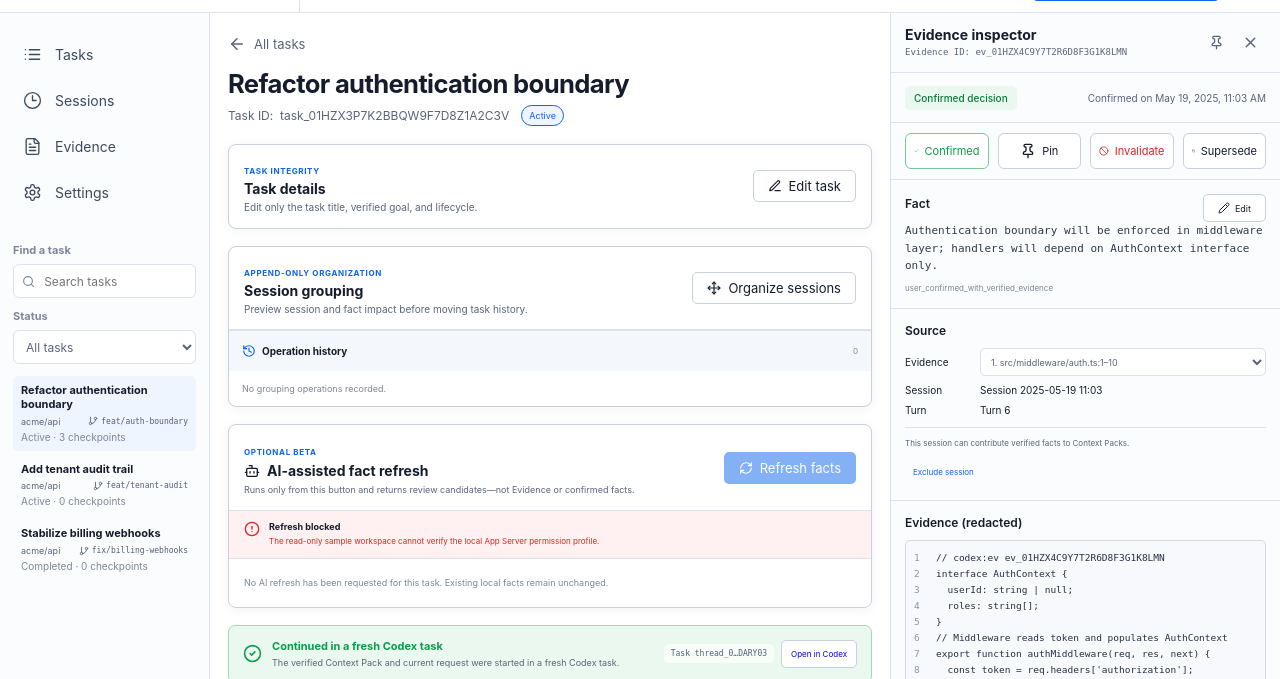
Test: PreviouslyOn review workspace › switches the interface to Korean and stores the browser preference
Click the button "Settings". click: {"x": 104, "y": 192}
box: [10,171,199,213]
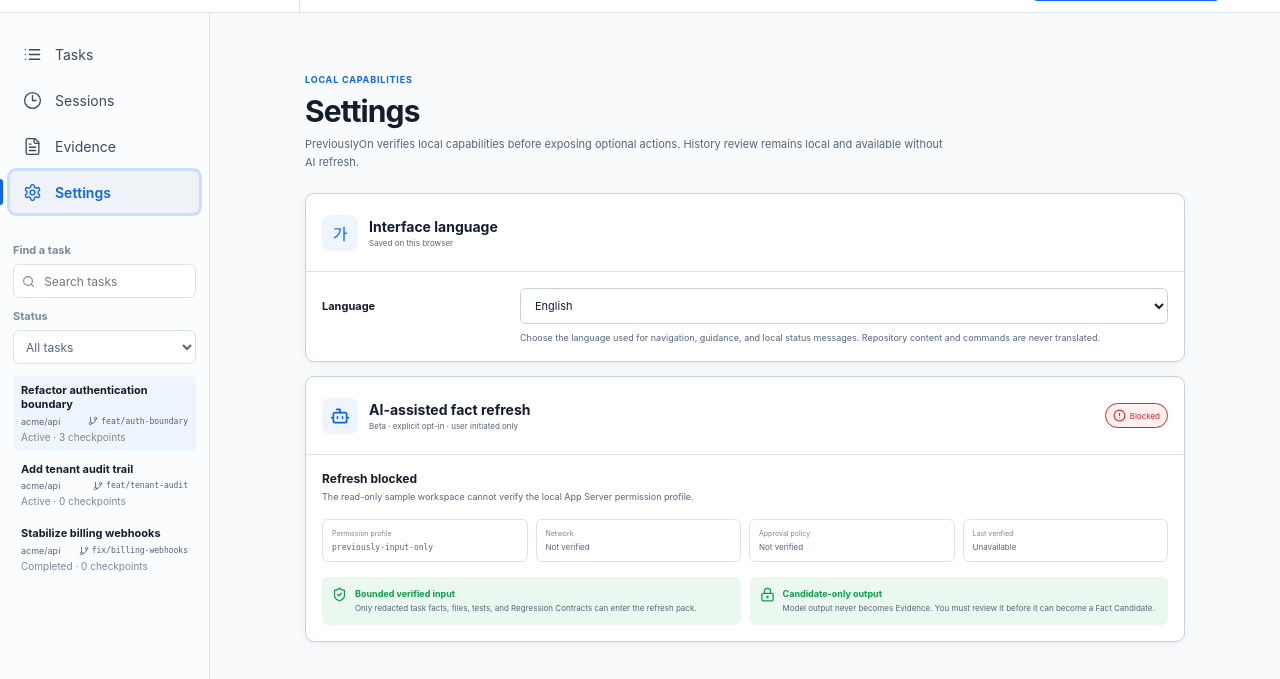
Select "한국어" in the dropdown labelled "Language". click: {"x": 844, "y": 306}
box: [520,288,1168,324]
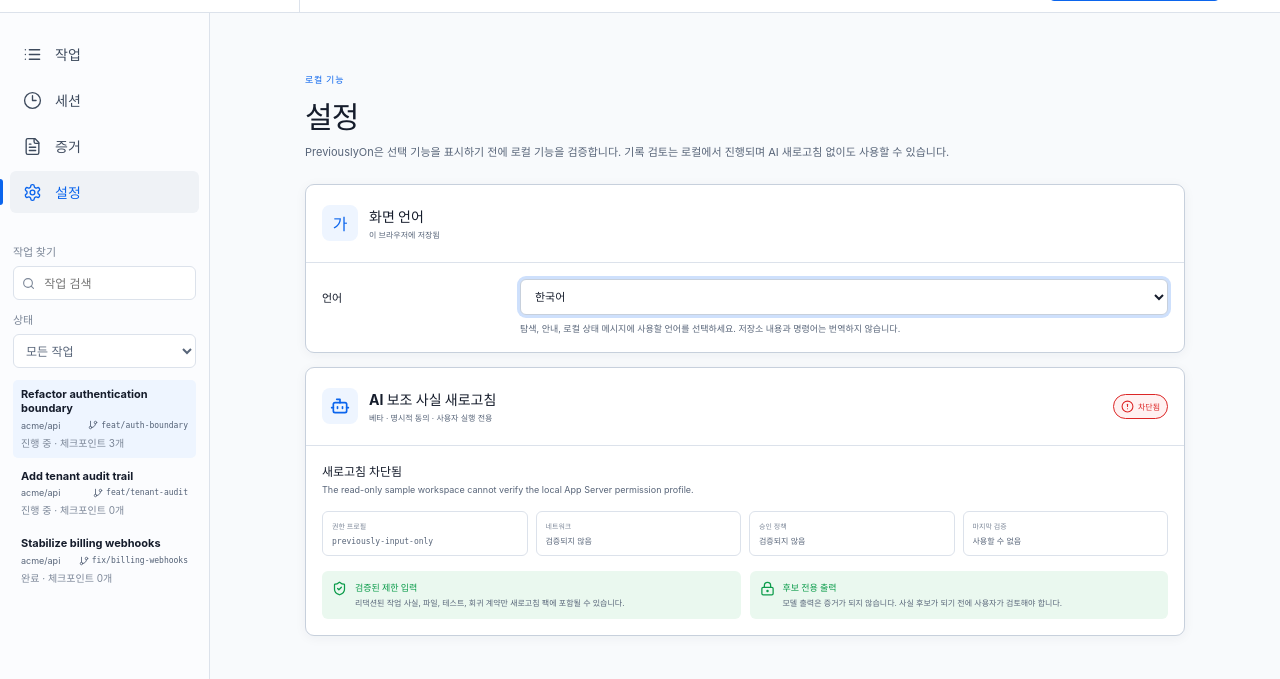
Expected: the heading "설정" is shown, [305,99,358,135]
Expected: the button "작업" is shown, [10,33,199,75]
Expected: the heading "AI 보조 사실 새로고침" is shown, [369,389,496,409]
Click the button "Refactor authentication boundary". click: {"x": 104, "y": 419}
box: [13,380,196,458]
(page scrolled)
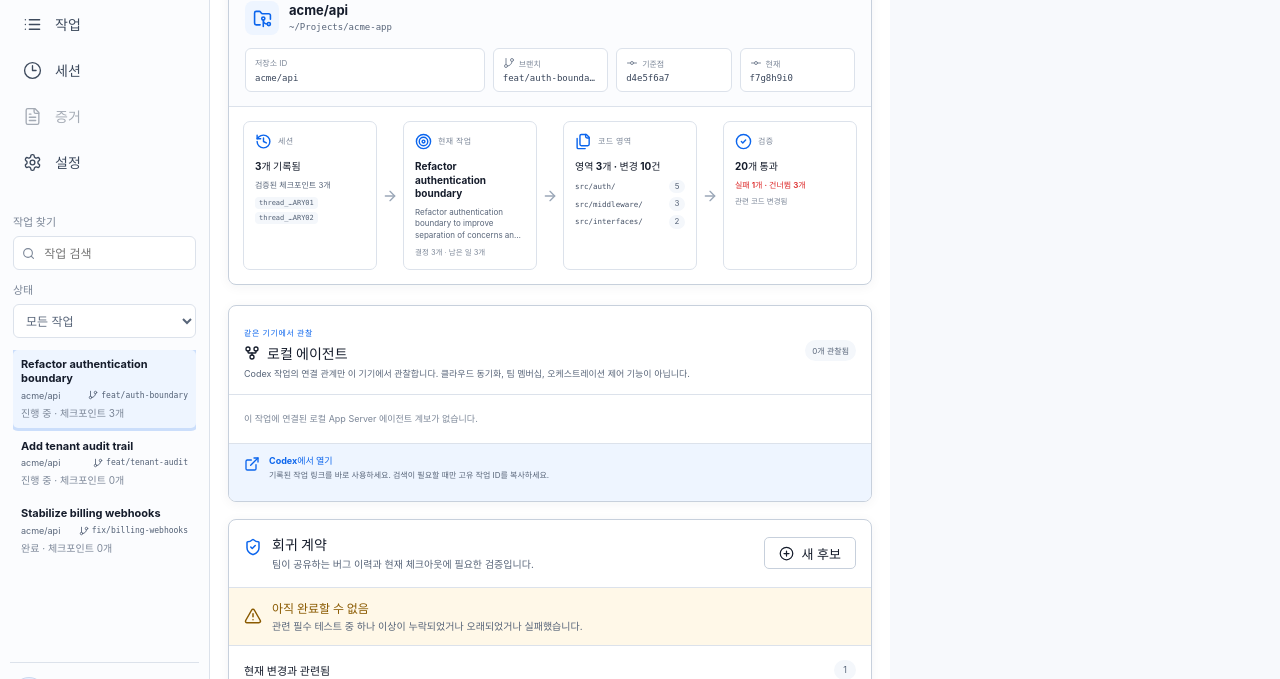
Expected: the text "Task integrity" is not shown
Expected: the heading "로컬 에이전트" is shown, [244,345,348,362]
